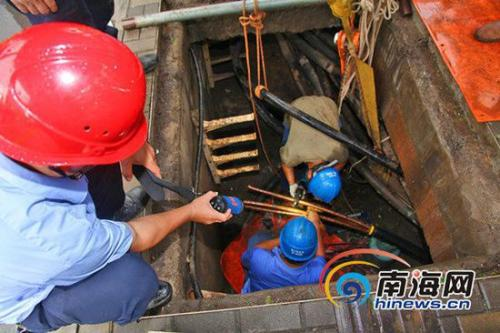helmet: (0, 10, 161, 196), (274, 217, 320, 266), (302, 165, 345, 205)
